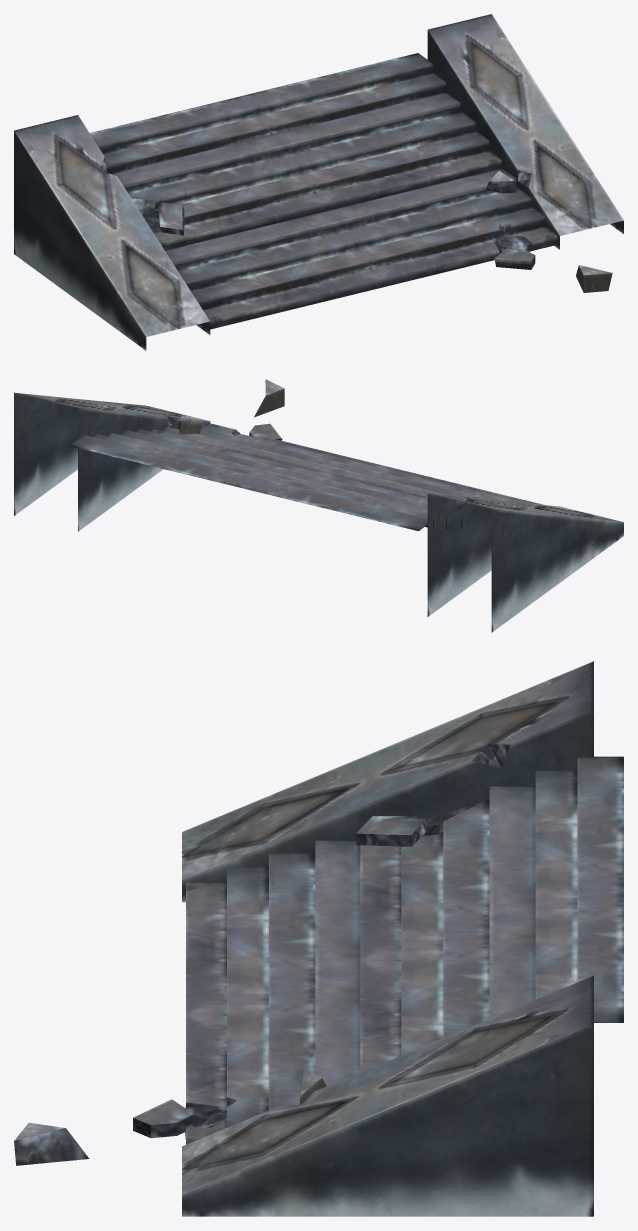
File: yw_anxizhidi_louti02.FBX
The picture shows the model from 3 angles, top to bottom: view 1: azimuth 30°, elevation 25°; view 2: azimuth 150°, elevation 25°; view 3: azimuth 270°, elevation 25°; orthographic projection. The views are drawn at different scales.
Parts seen in each view (by area): view 1: yw_anxizhidi_louti02; view 2: yw_anxizhidi_louti02; view 3: yw_anxizhidi_louti02.
Part boxes in pixels (bbox=[...]): yw_anxizhidi_louti02: bbox=[14, 14, 623, 350]; yw_anxizhidi_louti02: bbox=[14, 379, 623, 632]; yw_anxizhidi_louti02: bbox=[14, 661, 623, 1216].
Size of the model in its own units: 697 by 173 by 495.
